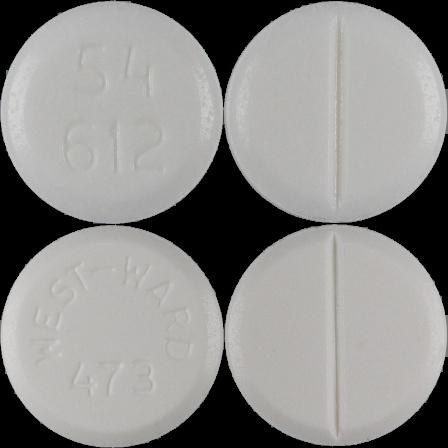50436-4324: (0, 0, 224, 224)
